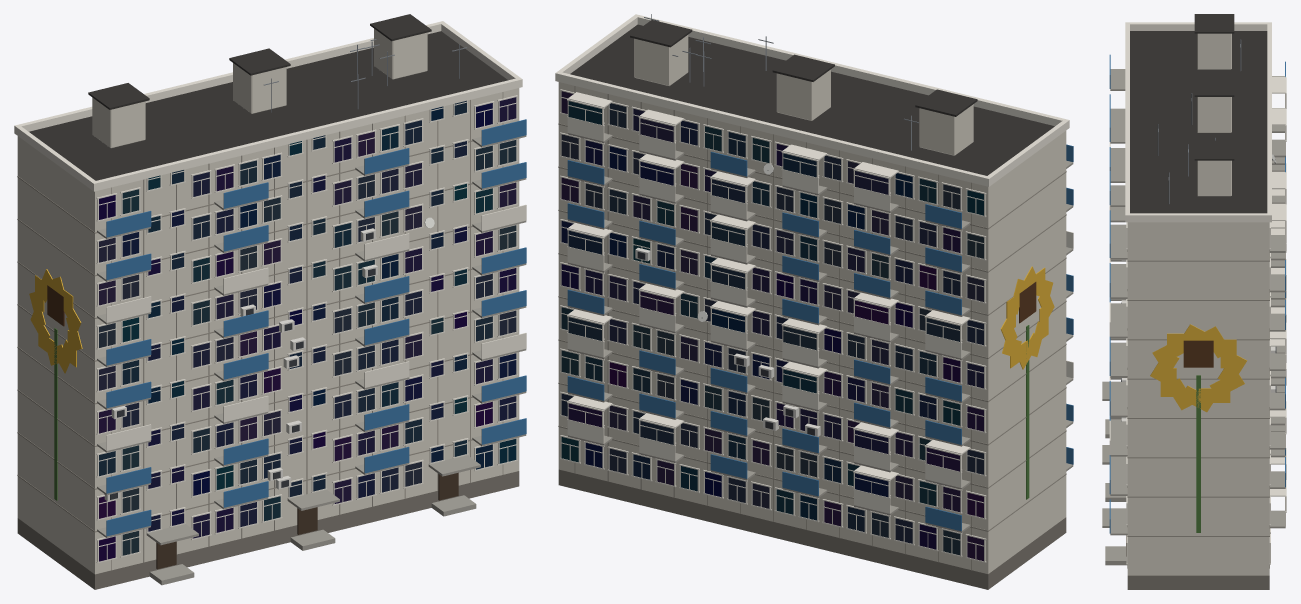
The model's file is block9_a.glb.
3 views of the same model, side by side, from view 1: azimuth 30°, elevation 25°; view 2: azimuth 150°, elevation 25°; view 3: azimuth 270°, elevation 25° (orthographic). The views are drawn at different scales.
Parts seen in each view (by area): view 1: block9_a; view 2: block9_a; view 3: block9_a.
Boxes of the visible parts, left/top/right/bottom form: block9_a: left=14, top=14, right=526, bottom=589; block9_a: left=555, top=14, right=1073, bottom=589; block9_a: left=1102, top=14, right=1286, bottom=589.
Size of the model in its own units: 28.9 by 28.51 by 11.67.
